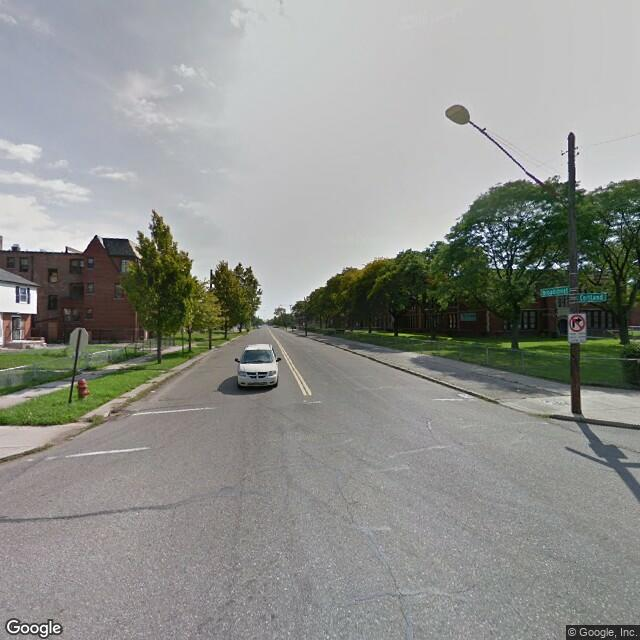litter: (144, 385, 159, 398), (95, 413, 113, 423), (26, 409, 33, 419)
